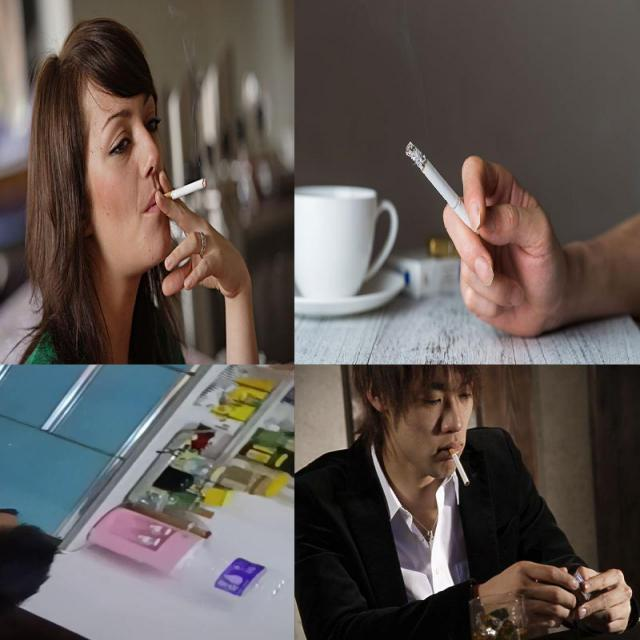smoke: (404, 139, 481, 239), (160, 172, 207, 202), (448, 448, 471, 488)
